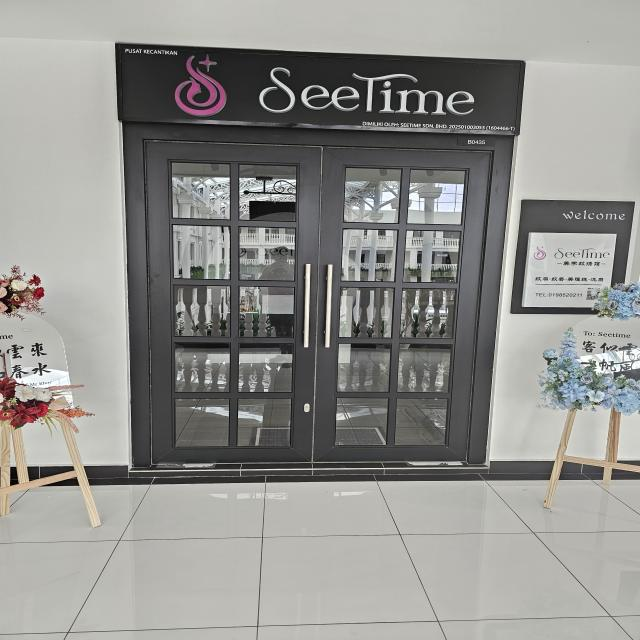door: (140, 136, 495, 468)
footpath: (1, 504, 638, 638)
obstacle: (0, 310, 102, 528), (542, 402, 639, 510)
